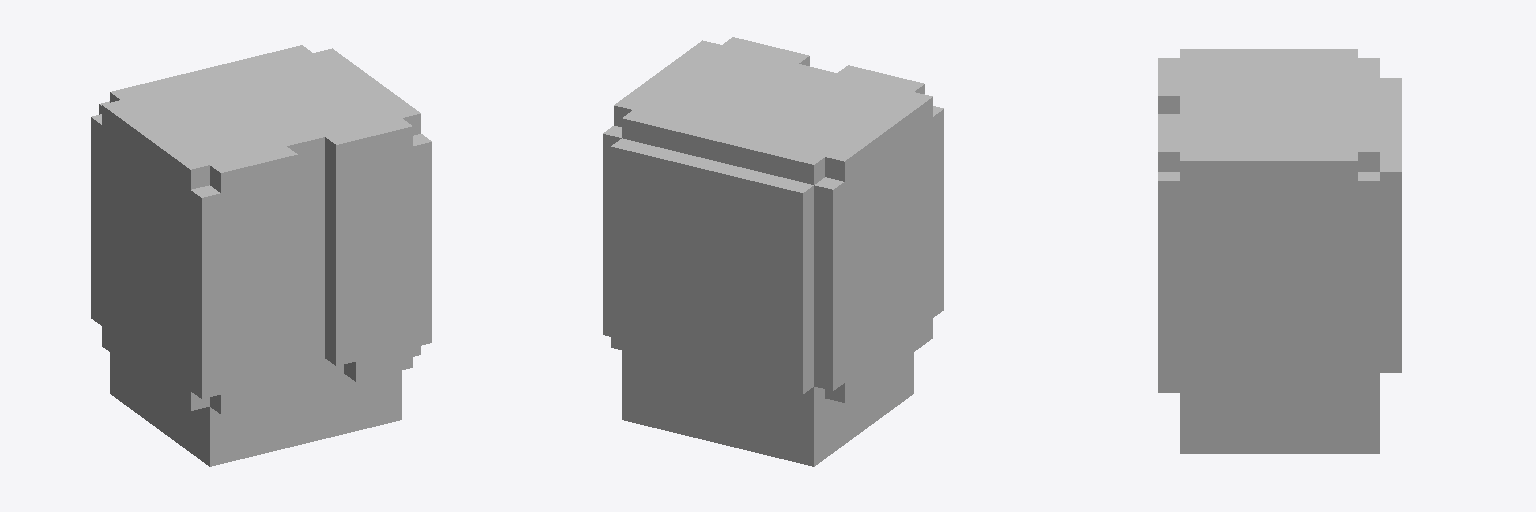
File: Body.obj
The picture shows the model from 3 angles: view 1: azimuth 30°, elevation 25°; view 2: azimuth 150°, elevation 25°; view 3: azimuth 270°, elevation 25°; orthographic projection.
Parts seen in each view (by area): view 1: object 1; view 2: object 1; view 3: object 1.
Part boxes in pixels (x1,y1,x2,y2): object 1: (91,45,431,466); object 1: (603,37,943,466); object 1: (1158,49,1401,453).
Size of the model in its own units: 1.2 by 1.5 by 1.1.